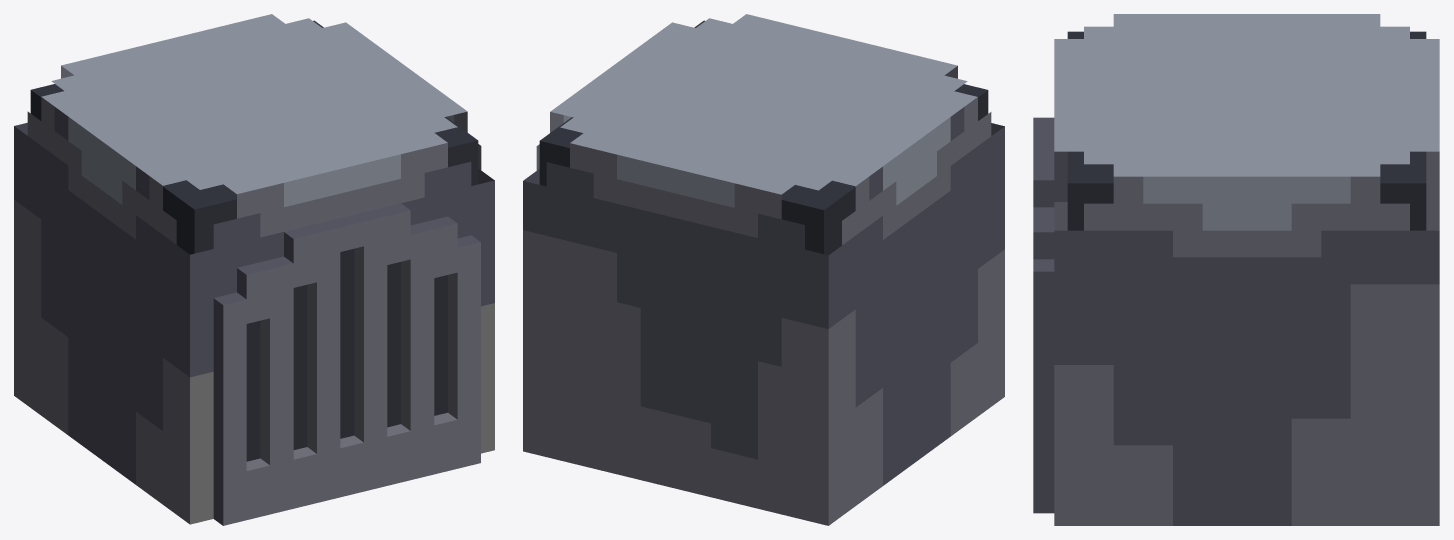
File: modelEnemySwordHead.glb
The picture shows the model from 3 angles, left to right: view 1: azimuth 30°, elevation 25°; view 2: azimuth 150°, elevation 25°; view 3: azimuth 270°, elevation 25°; orthographic projection. The views are drawn at different scales.
Parts seen in each view (by area): view 1: enemy sword.head; view 2: enemy sword.head; view 3: enemy sword.head.
Part boxes in pixels (x1=…): enemy sword.head: x1=14, y1=14, x2=494, y2=525; enemy sword.head: x1=523, y1=14, x2=1004, y2=525; enemy sword.head: x1=1033, y1=14, x2=1439, y2=525.
Bounding box in the file's own units: 2.07 × 2.07 × 2.18.
